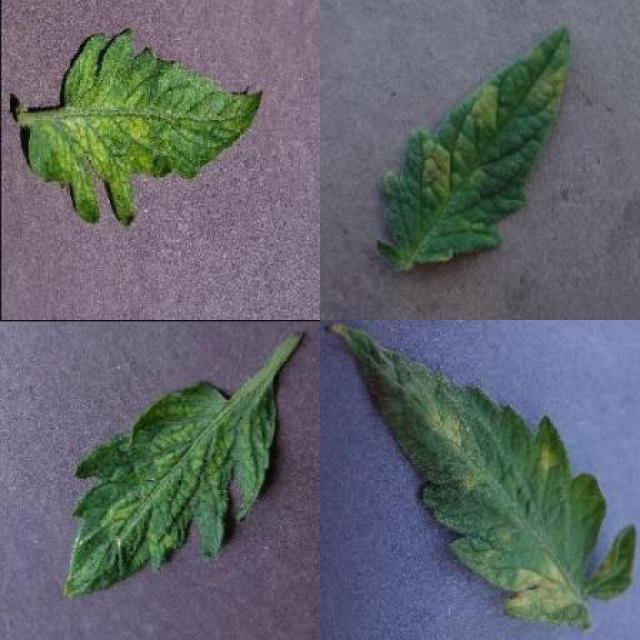Leaf Mold: (322, 322, 638, 628), (375, 26, 568, 264)
Mosaic Virus: (58, 377, 276, 600), (23, 28, 266, 228)
